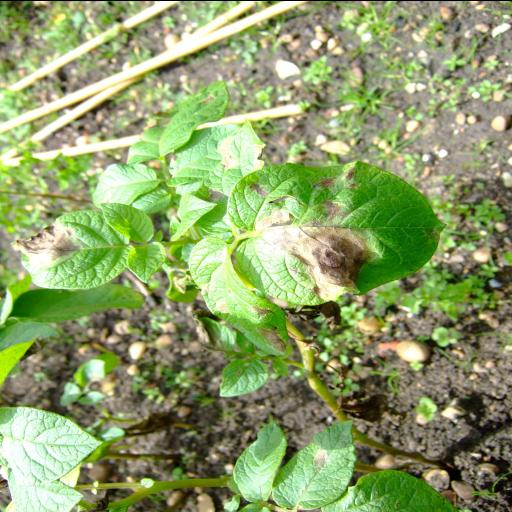Late Blight: (229, 152, 435, 304), (14, 207, 136, 289), (273, 418, 357, 508)
